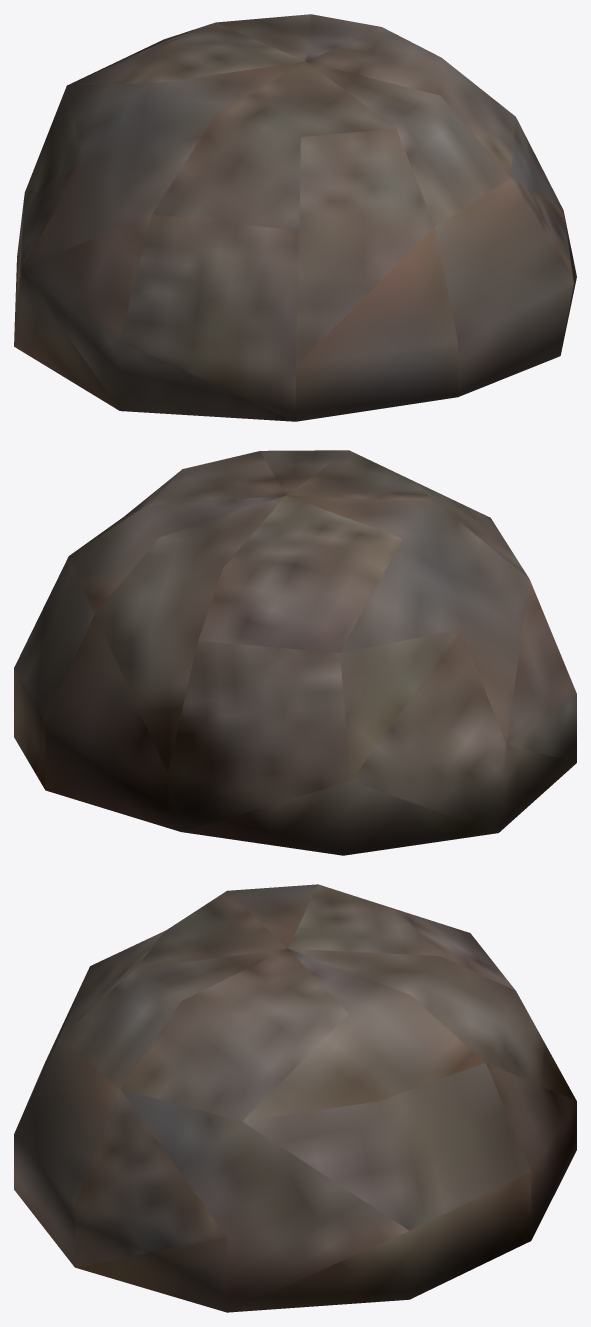
3 renders of one model, top to bottom at view 1: azimuth 30°, elevation 25°; view 2: azimuth 150°, elevation 25°; view 3: azimuth 270°, elevation 25°, orthographic.
Parts seen in each view (by area): view 1: tripo_part_8; view 2: tripo_part_8; view 3: tripo_part_8.
Part boxes in pixels (<box>): tripo_part_8: <box>14,14,576,421</box>; tripo_part_8: <box>14,450,576,855</box>; tripo_part_8: <box>14,884,576,1312</box>.
Size of the model in its own units: 0.0724 by 0.0372 by 0.0724.
Materials: 1 (1 with a texture image).
